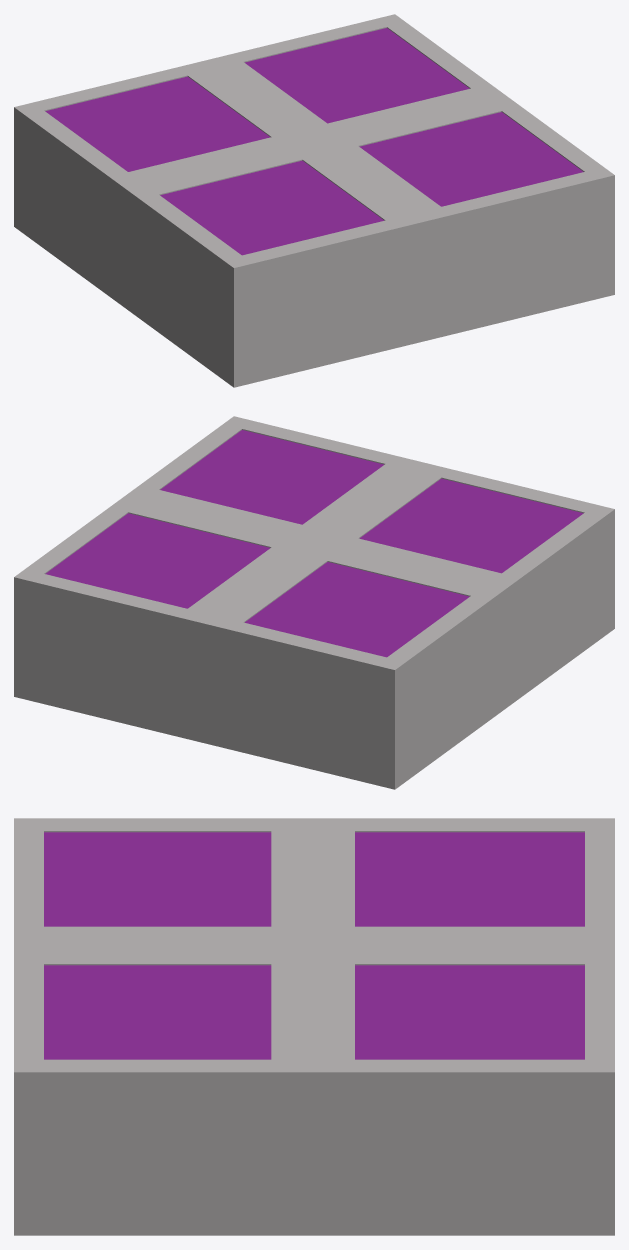
The model's file is Jump pad thai.fbx.
3 views of the same model, one above another, from view 1: azimuth 30°, elevation 25°; view 2: azimuth 150°, elevation 25°; view 3: azimuth 270°, elevation 25° (orthographic). The views are drawn at different scales.
Visible parts, largest first — view 1: Base Tile, Color 1; view 2: Base Tile, Color 1; view 3: Base Tile, Color 1.
Part boxes in pixels (x1,y1,x2,y2): Base Tile: [14, 14, 614, 387]; Color 1: [45, 28, 583, 255]; Base Tile: [14, 416, 614, 789]; Color 1: [45, 430, 583, 657]; Base Tile: [14, 818, 614, 1235]; Color 1: [44, 832, 584, 1059].
Size of the model in its own units: 200 by 60 by 200.
